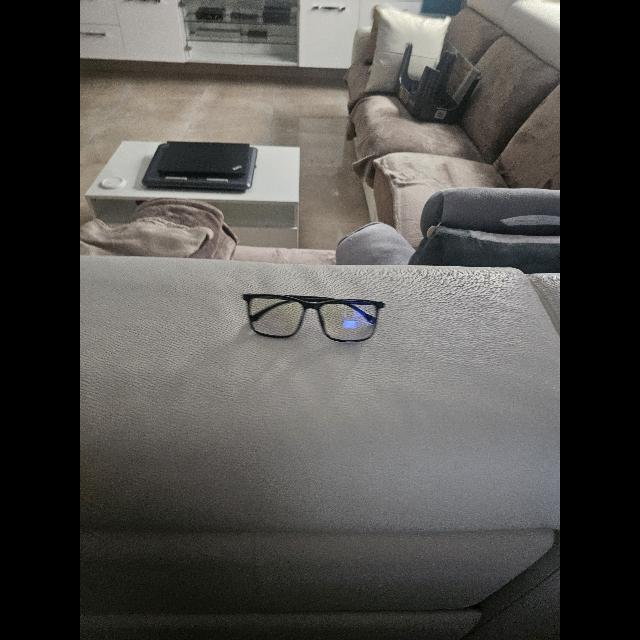glasses: (243, 294, 384, 342)
